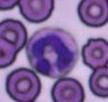N: (26, 26, 79, 78)
